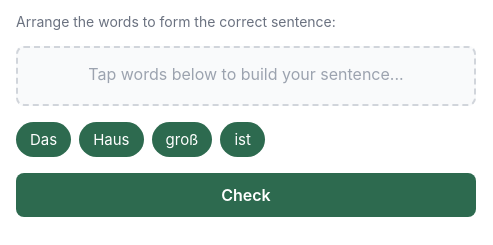
SentenceBuilder › accepts the words selected in sentence order
Click the button "Das".
click(44, 140)  # box [16,122,71,157]
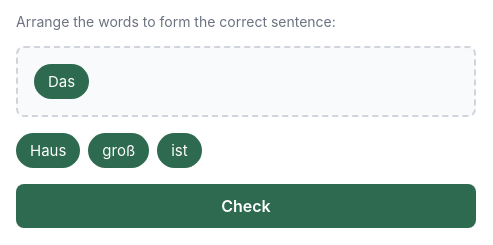
Click the button "Haus".
click(48, 150)  # box [16,133,80,168]
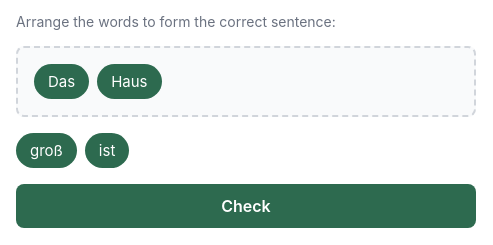
Click the button "ist".
click(107, 150)  # box [85,133,129,168]
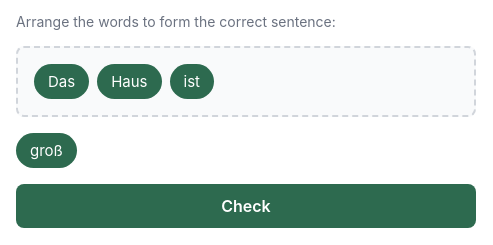
Click the button "groß".
click(46, 150)  # box [16,133,77,168]
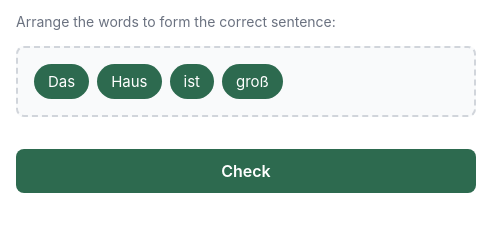
Click the button "Check".
click(246, 171)  # box [16,149,476,193]
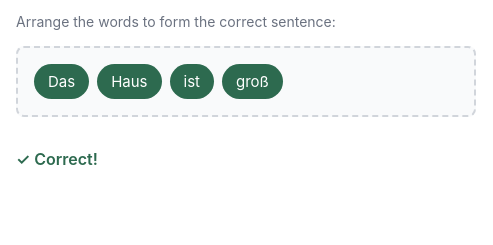
Expected: the text "✓ Correct!" is shown, [16,149,98,169]
